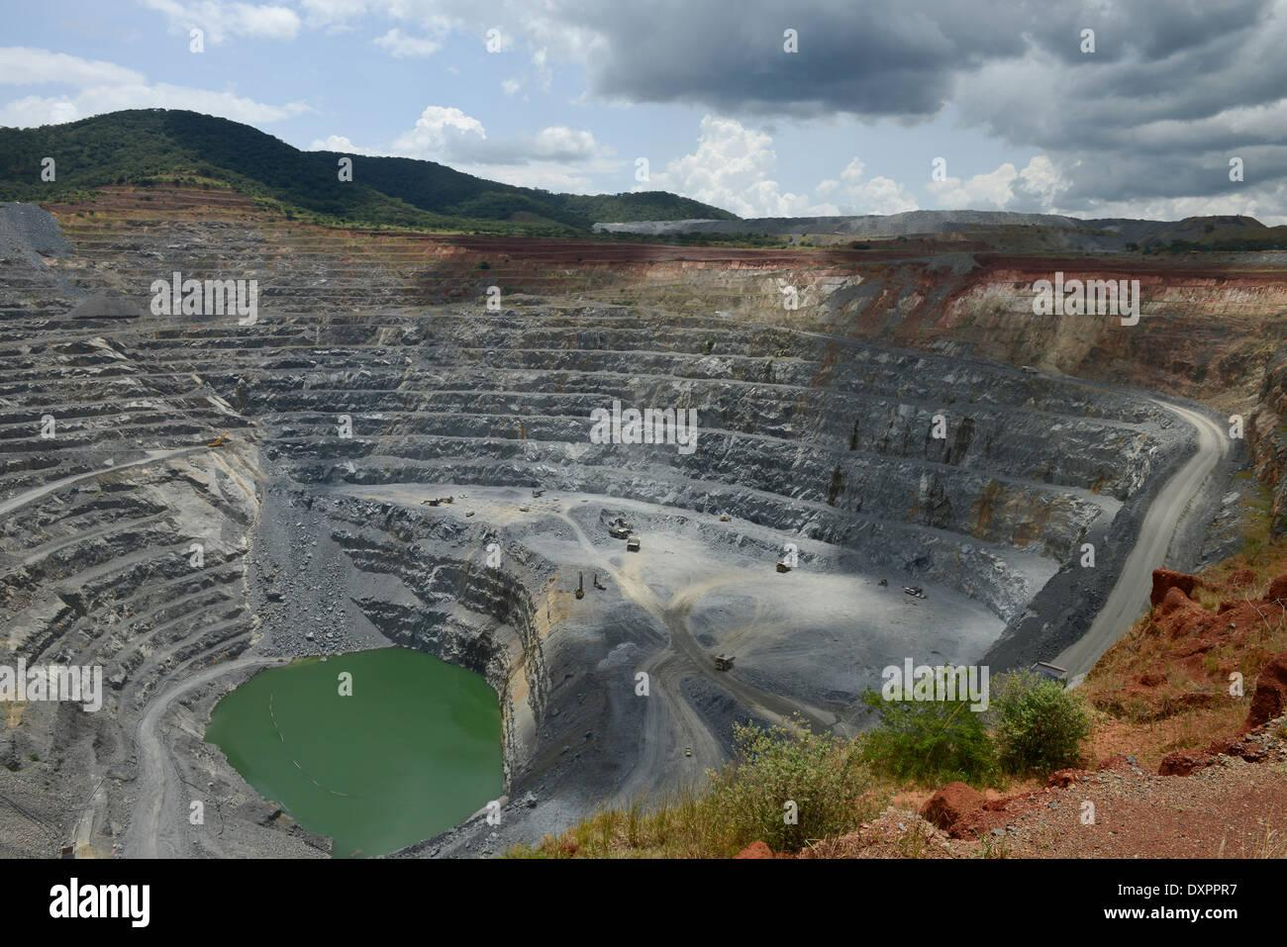ExcavationMachinery: (715, 653, 737, 671), (208, 431, 231, 446), (575, 570, 585, 599), (607, 523, 627, 536), (419, 496, 440, 506), (627, 538, 641, 552), (776, 560, 791, 573), (439, 496, 452, 503), (533, 489, 542, 498), (720, 516, 733, 522)
